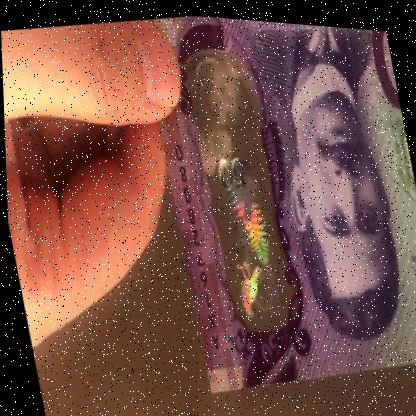50F: (192, 72, 287, 326)
